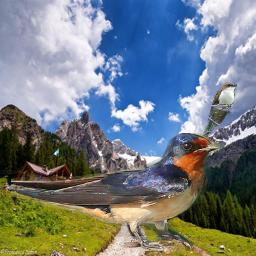Cuckoo: (200, 81, 237, 141)
Swallow: (11, 133, 220, 251)
